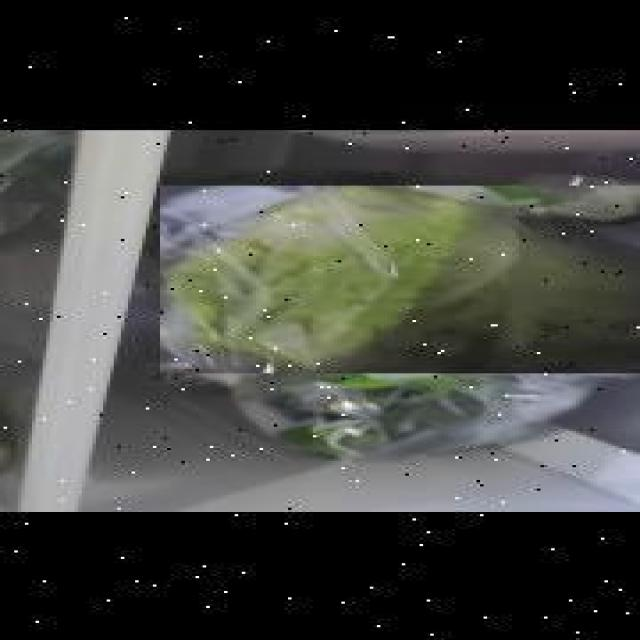bread: (0, 245, 85, 366)
salad: (160, 184, 640, 371)
